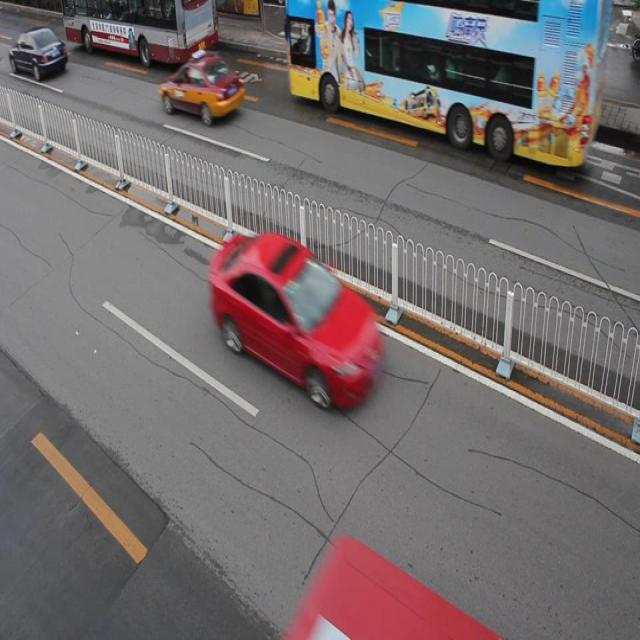car: (212, 230, 381, 405), (161, 54, 244, 123), (9, 27, 68, 80)
van: (285, 1, 610, 166), (288, 539, 491, 640), (61, 1, 217, 64)
